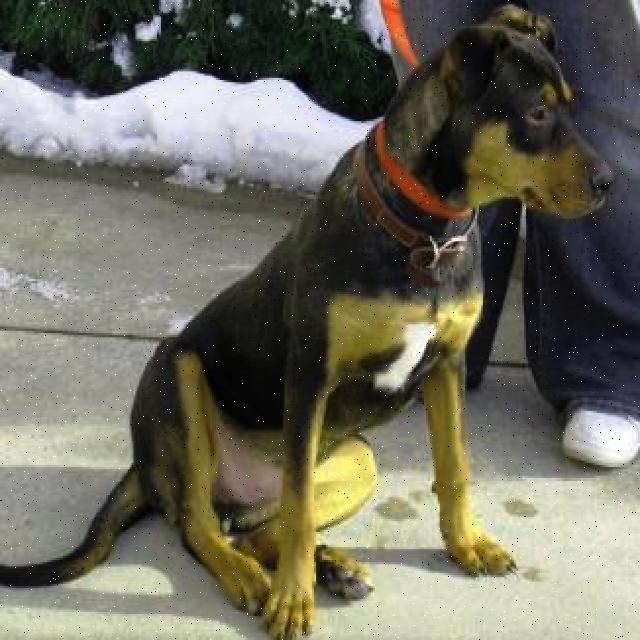Dog: (373, 0, 618, 251)
